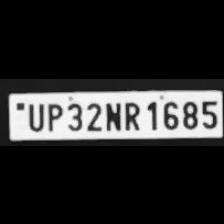1: (142, 96, 160, 130)
2: (84, 98, 103, 130)
3: (64, 99, 82, 131)
5: (198, 96, 220, 128)
6: (159, 97, 179, 129)
8: (180, 97, 198, 129)
N: (103, 98, 121, 130)
P: (43, 99, 62, 131)
R: (121, 97, 141, 131)
U: (24, 99, 42, 129)
